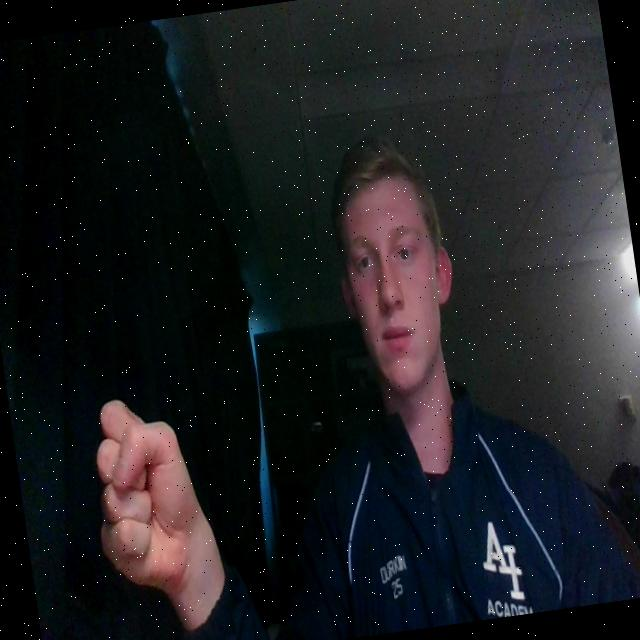rock: (76, 379, 241, 640)
